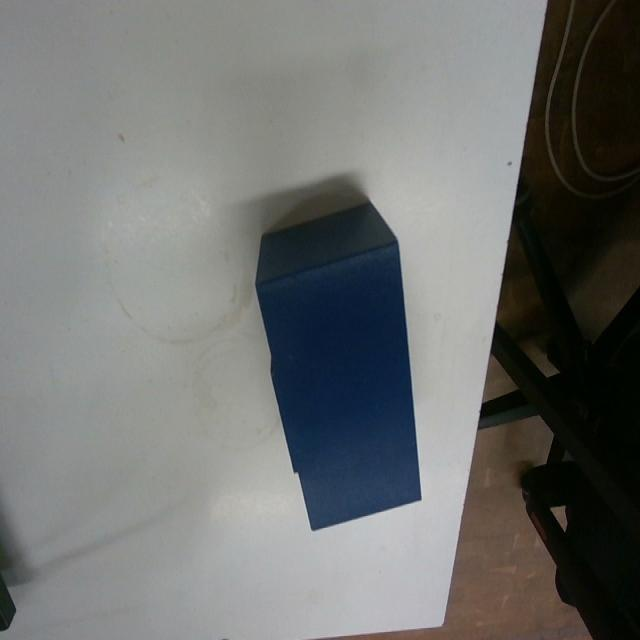Blue Cuboid: (252, 196, 424, 532)
